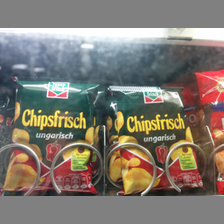chips: (5, 78, 99, 193), (117, 84, 207, 195)
